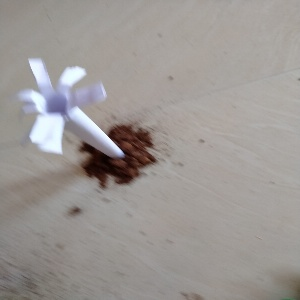weed: (19, 53, 140, 182)
